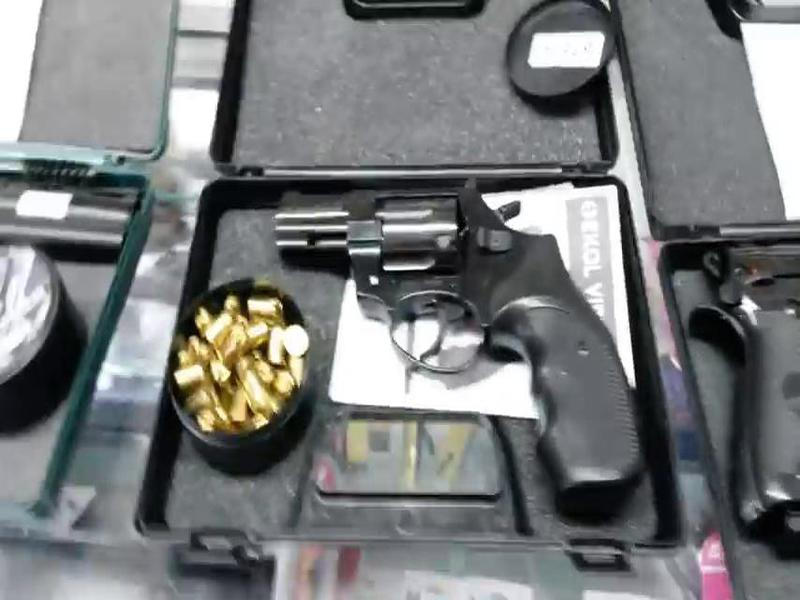Revolver: (267, 156, 673, 515)
